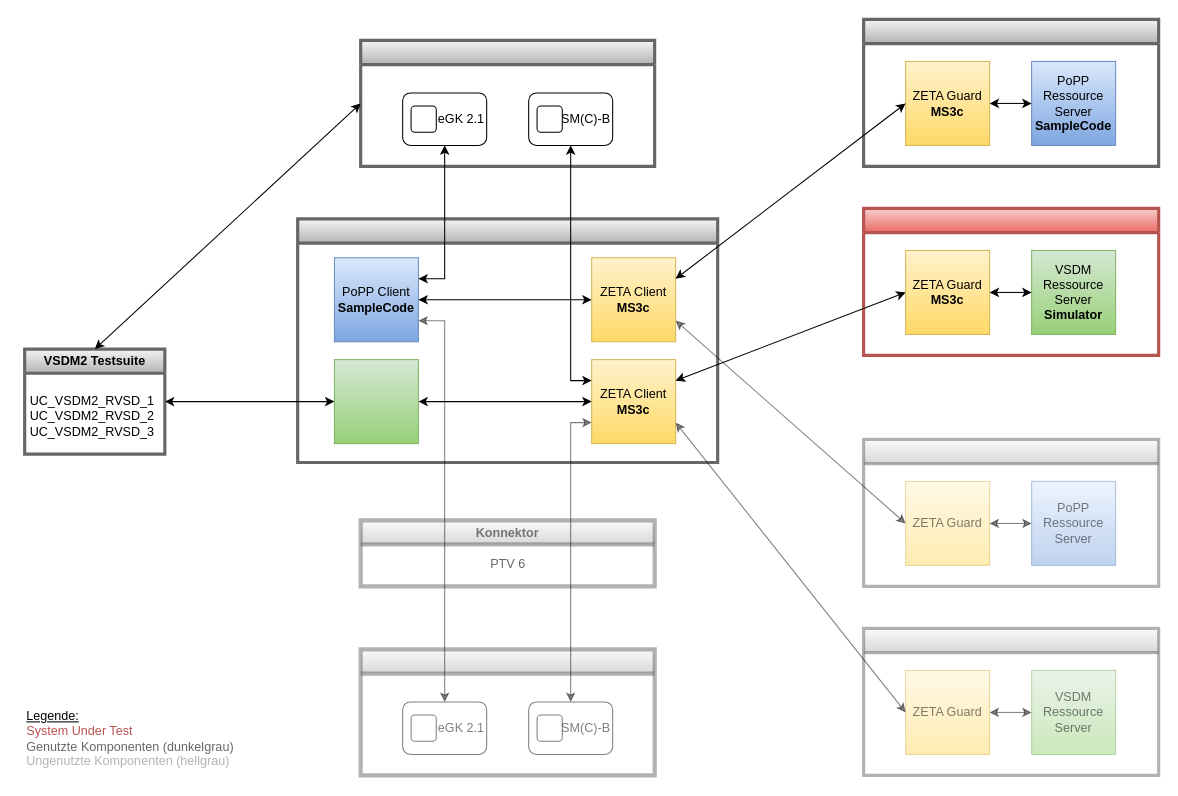
The diagram is 1178 pixels wide and 796 high, and some of its shapes have lost their labels. The shapes that lost their labels are listed below. From the top down, each one's box as (x1, y1, x2, y2) in pixels, then its label:
(359, 38, 656, 167): Card Terminal Simulation
(862, 17, 1160, 167): PoPP Service Simulation
(862, 206, 1160, 356): VSDM 2.0 Fachdienst Simulation
(296, 217, 719, 464): Primärsystem Simulation
(333, 359, 418, 444): VSDM Client Simulator
(862, 437, 1160, 587): PoPP Service
(358, 647, 656, 777): Card Terminal
(862, 626, 1160, 776): VSDM 2.0 Fachdienst
